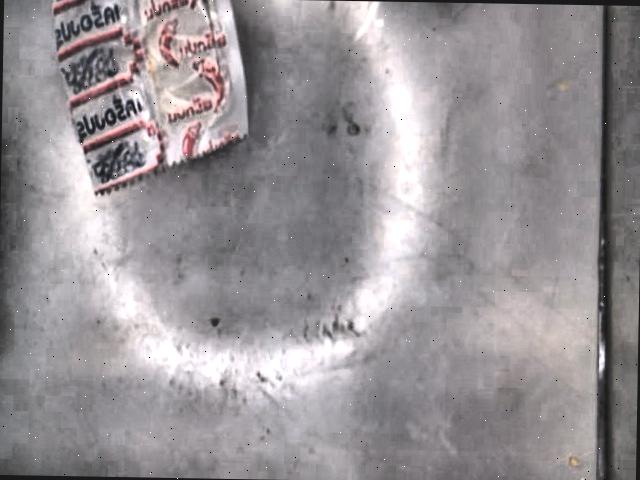Plastic: (52, 0, 252, 195)
